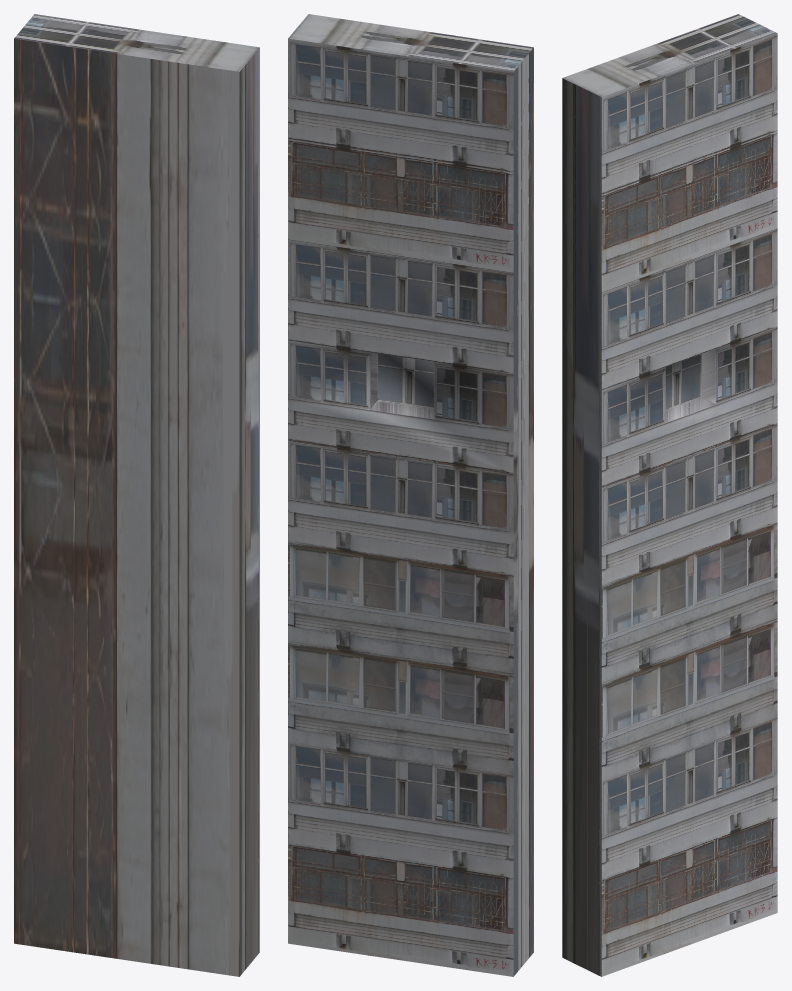
Rendered from balcon_ded.fbx.
3 renders of one model, left to right at view 1: azimuth 30°, elevation 25°; view 2: azimuth 210°, elevation 25°; view 3: azimuth 270°, elevation 25°, orthographic. The views are drawn at different scales.
Parts seen in each view (by area): view 1: Cube_933; view 2: Cube_933; view 3: Cube_933.
Boxes of the visible parts, left/top/right/bottom form: Cube_933: left=14, top=14, right=259, bottom=976; Cube_933: left=288, top=14, right=533, bottom=976; Cube_933: left=562, top=14, right=777, bottom=976.
Bounding box in the file's own units: 666 × 3283 × 727.
Materials: 1 (1 with a texture image).
